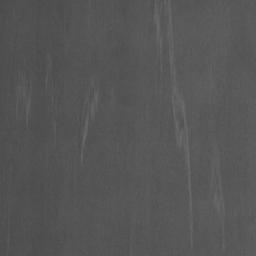Silk spot: (159, 0, 176, 58), (75, 96, 91, 154), (167, 98, 176, 148), (149, 0, 156, 35), (158, 60, 170, 80), (178, 112, 189, 130), (101, 90, 110, 104)
